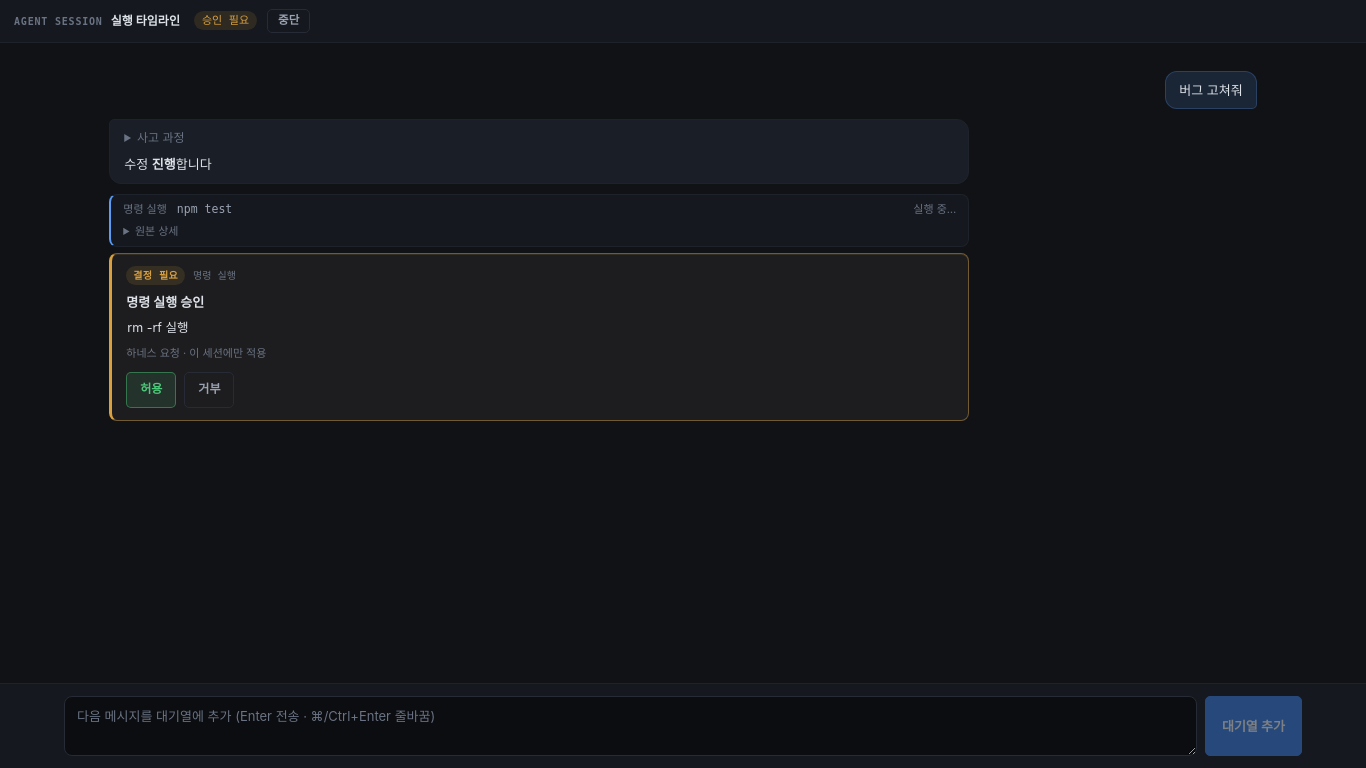
Scenario: Conversation (FR-3.2) › lets the user respond to a pending permission (FR-3.4.1)
Check: the element with test id "permission-card" shows "rm -rf 실행", box [127,320,188,335]
Check: the text "결정 필요" is shown, box [126,266,185,285]
Click the button "허용" at (151, 390), box [126,372,176,408]
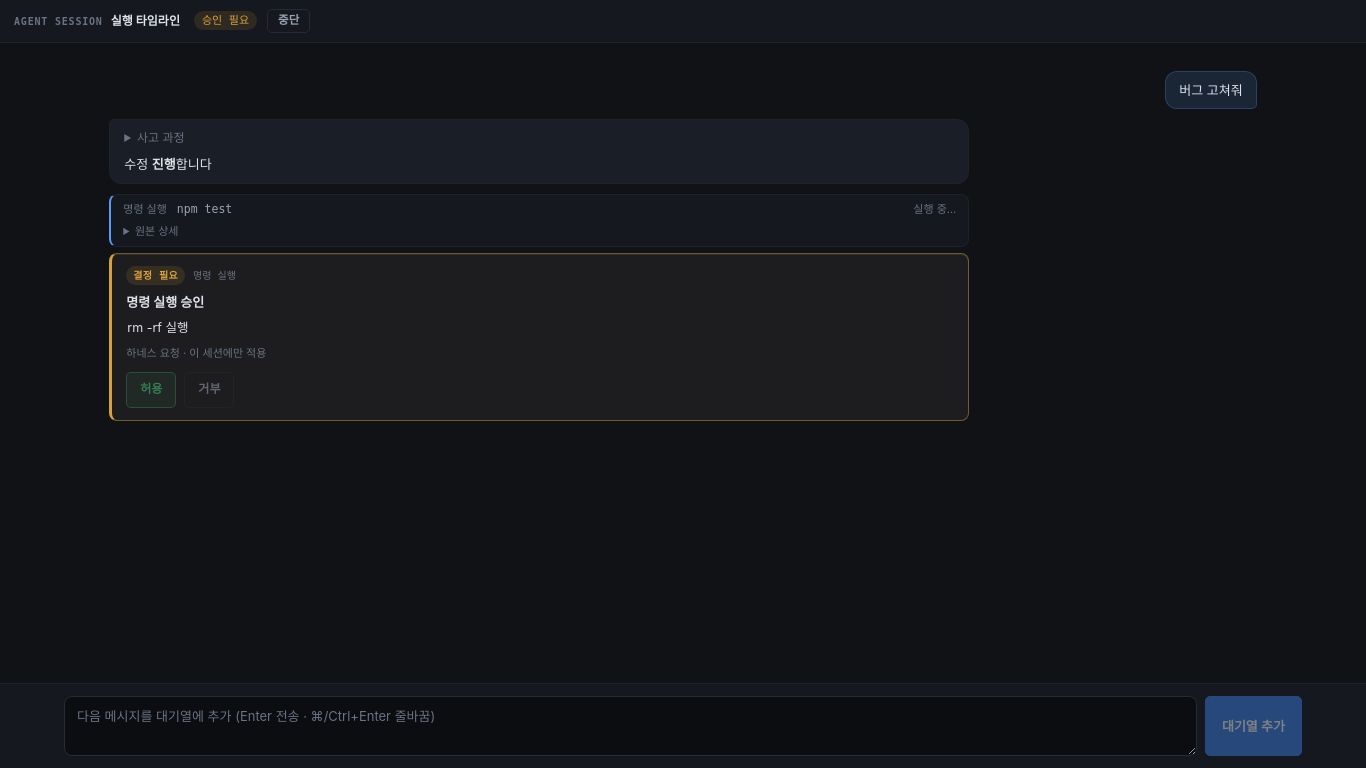
Check: the button "거부" is disabled, box [184,372,234,408]
